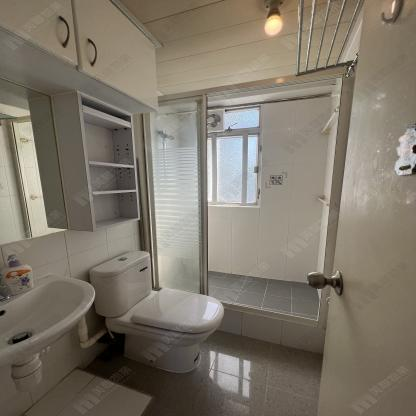Toilet: (89, 250, 225, 371)
Toilet Sink: (0, 273, 94, 366)
Water Cubicle: (133, 70, 355, 354)
